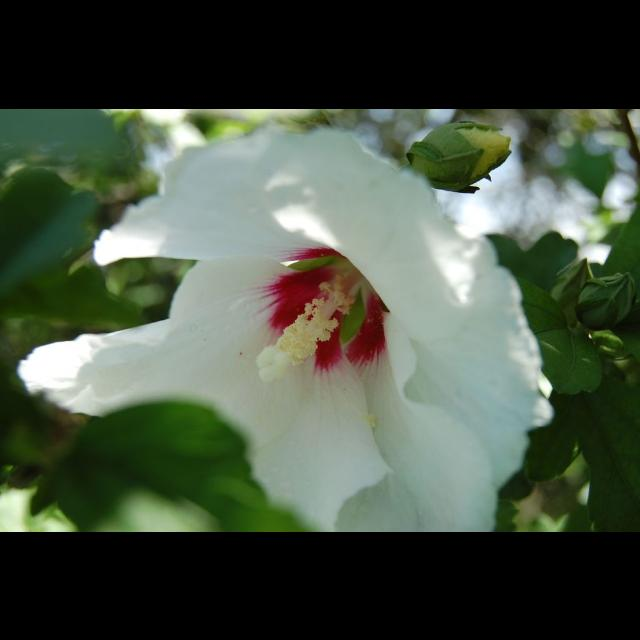Flower: (28, 192, 550, 522)
